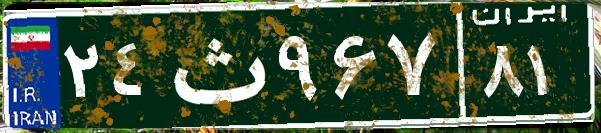1: (525, 38, 570, 115)
2: (57, 26, 110, 107)
4: (110, 28, 158, 105)
6: (330, 28, 385, 110)
7: (385, 28, 445, 110)
8: (475, 38, 525, 113)
9: (273, 28, 330, 110)
ث: (158, 15, 273, 115)
